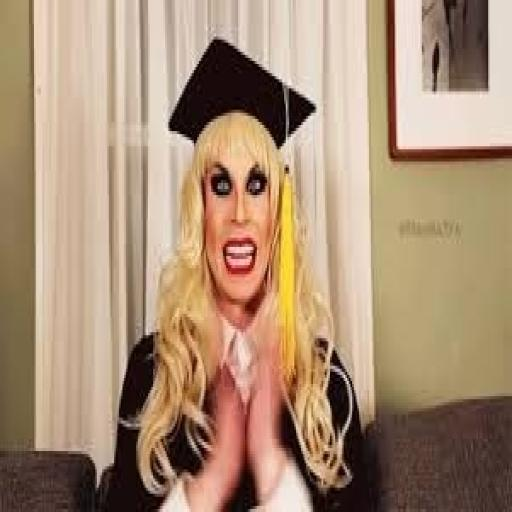clapping: (98, 33, 372, 509)
